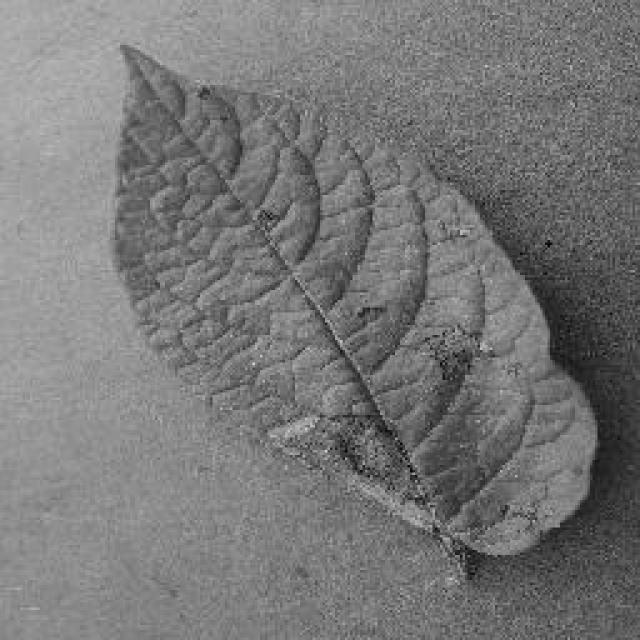Potato: (108, 40, 600, 578)
